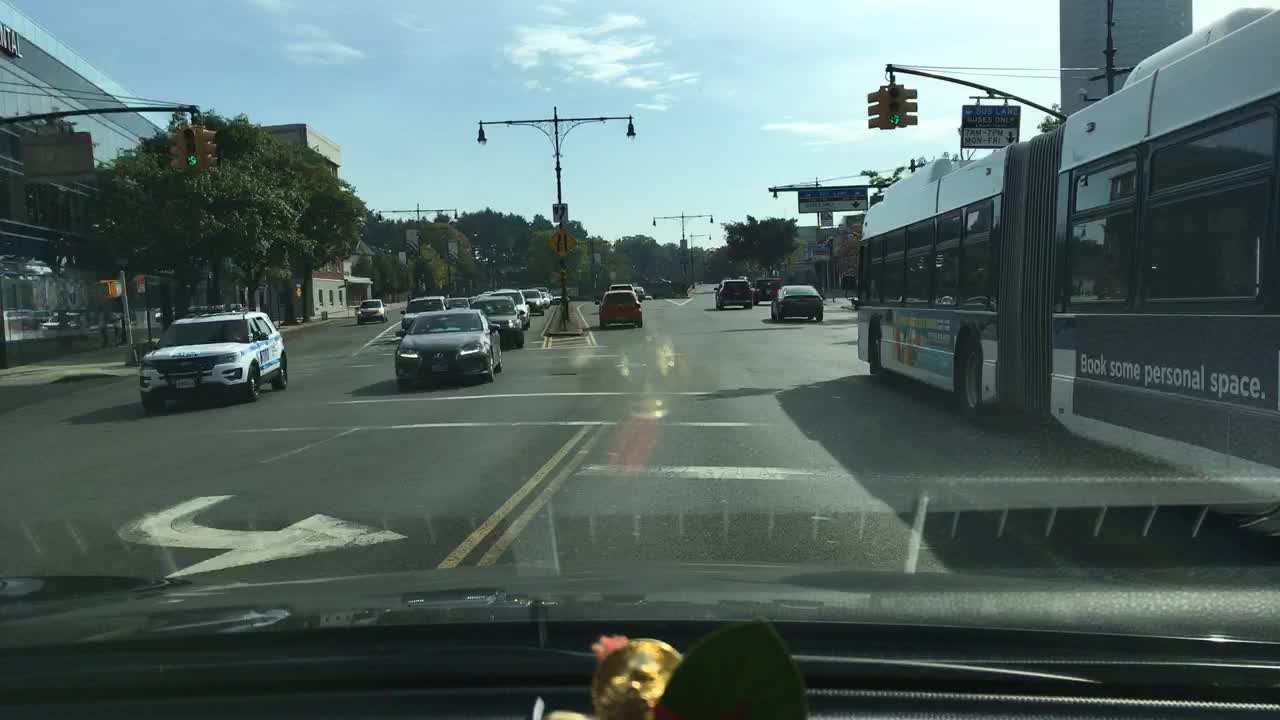bus: (849, 5, 1276, 498)
car: (136, 309, 287, 414), (390, 308, 501, 390), (471, 295, 525, 350), (769, 284, 825, 324), (594, 288, 644, 327), (488, 287, 534, 328), (399, 295, 446, 329), (712, 278, 754, 309), (40, 311, 88, 329), (356, 297, 387, 324), (753, 275, 781, 304), (522, 287, 546, 316), (2, 307, 35, 325), (444, 296, 468, 308), (606, 281, 635, 290), (540, 290, 555, 305), (554, 293, 572, 304), (641, 292, 654, 302)
traffic light: (865, 85, 889, 132), (199, 124, 220, 171), (166, 127, 185, 174), (181, 126, 200, 171), (885, 82, 904, 127), (903, 87, 919, 127), (95, 280, 121, 299)
traffic sign: (1059, 0, 1194, 66), (1057, 67, 1132, 116), (960, 105, 1021, 148), (798, 187, 867, 211), (549, 229, 576, 256), (806, 245, 830, 260), (551, 202, 567, 223), (134, 274, 146, 292), (820, 211, 834, 226)
